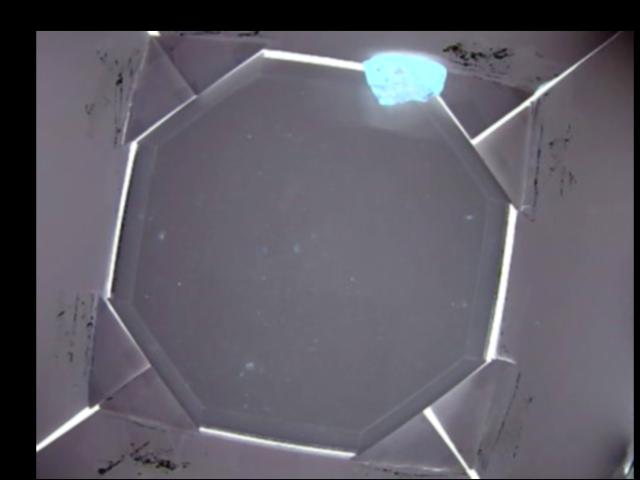Brisk: (360, 50, 447, 105)
